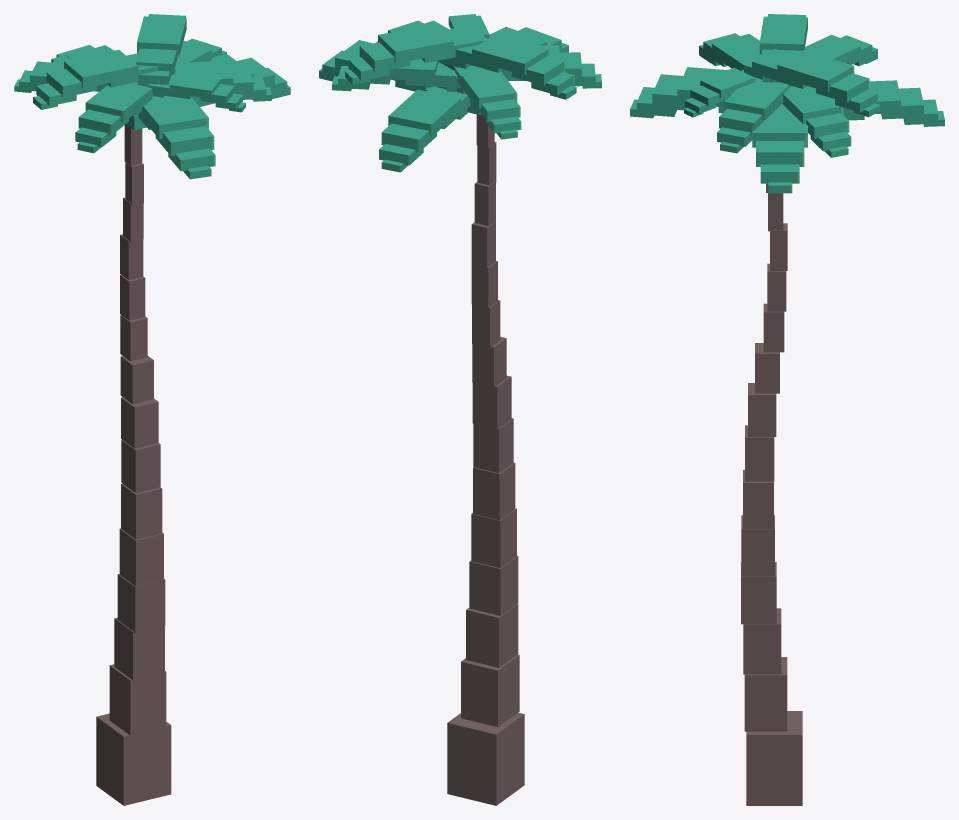
The model's file is PalmTree2.fbx.
3 renders of one model, left to right at view 1: azimuth 30°, elevation 25°; view 2: azimuth 150°, elevation 25°; view 3: azimuth 270°, elevation 25°, orthographic. The views are drawn at different scales.
Parts seen in each view (by area): view 1: pCube9385, pCube9410, pCube9413, pCube9386, pCube9409, pCube9414, pCube9387, pCube9388, pCube9393, pCube9416, pCube9389, pCube9408 (+12 smaller); view 2: pCube9385, pCube9412, pCube9414, pCube9413, pCube9386, pCube9411, pCube9387, pCube9388, pCube9393, pCube9407, pCube9389, pCube9390 (+11 smaller); view 3: pCube9385, pCube9414, pCube9406, pCube9408, pCube9407, pCube9386, pCube9410, pCube9412, pCube9387, pCube9413, pCube9416, pCube9388 (+11 smaller).
Boxes of the visible parts, x1=… form: pCube9385: x1=96, y1=713, x2=171, y2=805; pCube9410: x1=137, y1=95, x2=215, y2=179; pCube9413: x1=33, y1=50, x2=175, y2=109; pCube9386: x1=109, y1=664, x2=166, y2=735; pCube9409: x1=75, y1=82, x2=152, y2=153; pCube9414: x1=136, y1=14, x2=186, y2=86; pCube9387: x1=114, y1=617, x2=164, y2=680; pCube9388: x1=117, y1=574, x2=165, y2=632; pCube9393: x1=119, y1=528, x2=163, y2=586; pCube9416: x1=147, y1=72, x2=245, y2=112; pCube9389: x1=121, y1=483, x2=162, y2=539; pCube9408: x1=171, y1=60, x2=271, y2=101; pCube9385: x1=447, y1=712, x2=524, y2=805; pCube9412: x1=379, y1=86, x2=470, y2=172; pCube9414: x1=345, y1=24, x2=486, y2=84; pCube9413: x1=438, y1=33, x2=576, y2=99; pCube9386: x1=461, y1=654, x2=519, y2=727; pCube9411: x1=455, y1=65, x2=521, y2=139; pCube9387: x1=466, y1=604, x2=518, y2=667; pCube9388: x1=469, y1=555, x2=518, y2=615; pCube9393: x1=471, y1=508, x2=516, y2=567; pCube9407: x1=332, y1=55, x2=460, y2=91; pCube9389: x1=473, y1=462, x2=515, y2=520; pCube9390: x1=473, y1=418, x2=513, y2=473; pCube9385: x1=746, y1=711, x2=802, y2=805; pCube9414: x1=744, y1=49, x2=879, y2=117; pCube9406: x1=752, y1=104, x2=807, y2=193; pCube9408: x1=717, y1=79, x2=789, y2=153; pCube9407: x1=782, y1=86, x2=851, y2=157; pCube9386: x1=744, y1=657, x2=787, y2=731; pCube9410: x1=630, y1=67, x2=730, y2=118; pCube9412: x1=843, y1=80, x2=944, y2=126; pCube9387: x1=743, y1=608, x2=781, y2=674; pCube9413: x1=759, y1=14, x2=807, y2=86; pCube9416: x1=684, y1=67, x2=759, y2=117; pCube9388: x1=741, y1=562, x2=776, y2=624.
Bounding box in the file's own units: 3.69 × 10.6 × 4.02.
